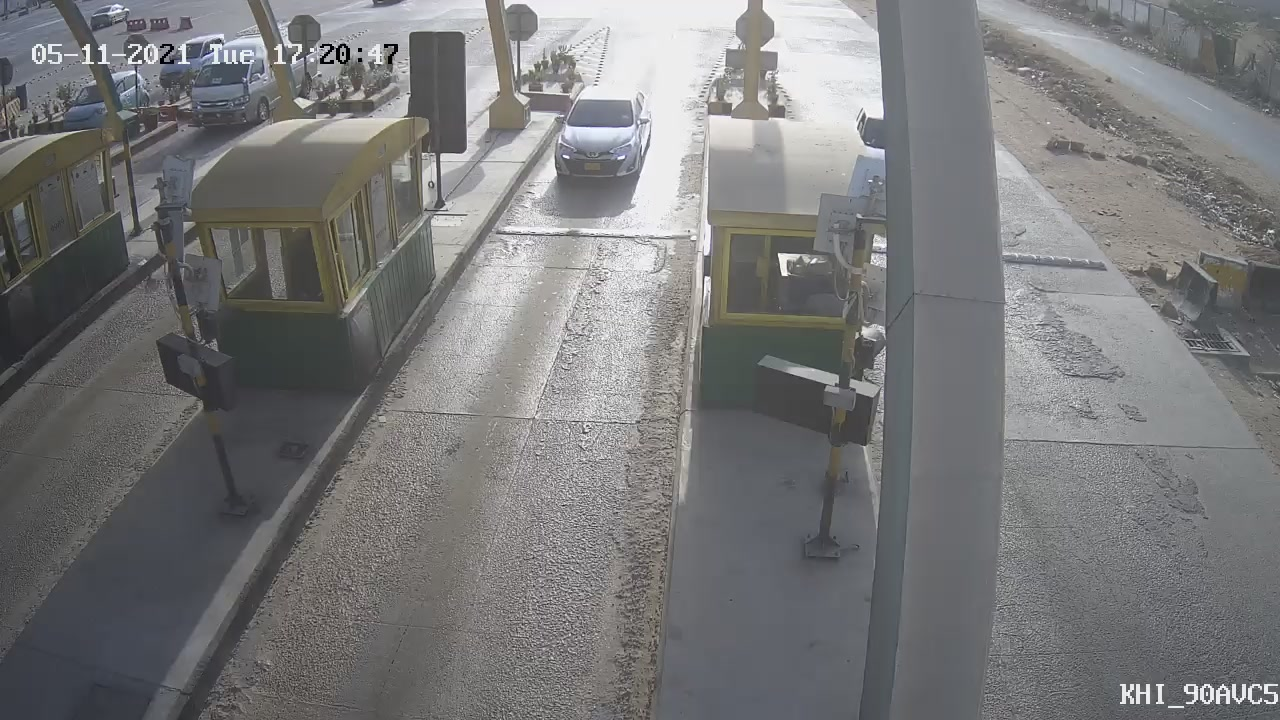F1: (537, 70, 672, 200)
